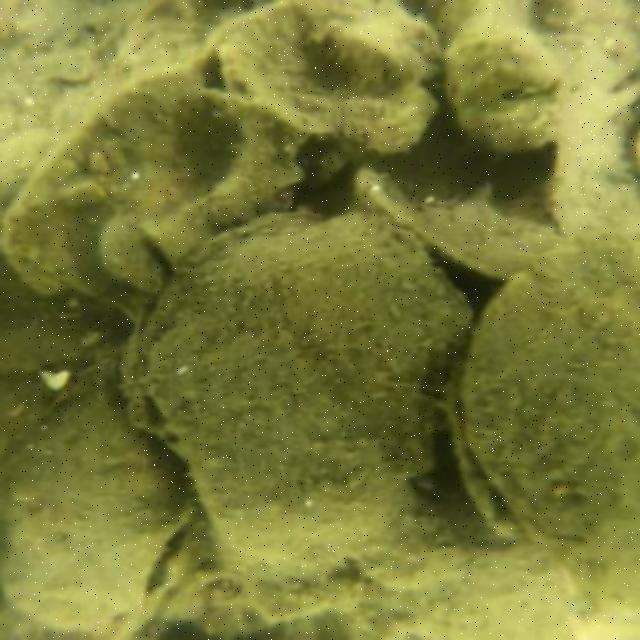Oyster-Closed: (144, 204, 476, 565), (458, 244, 636, 635), (0, 354, 194, 633), (92, 215, 176, 296)
